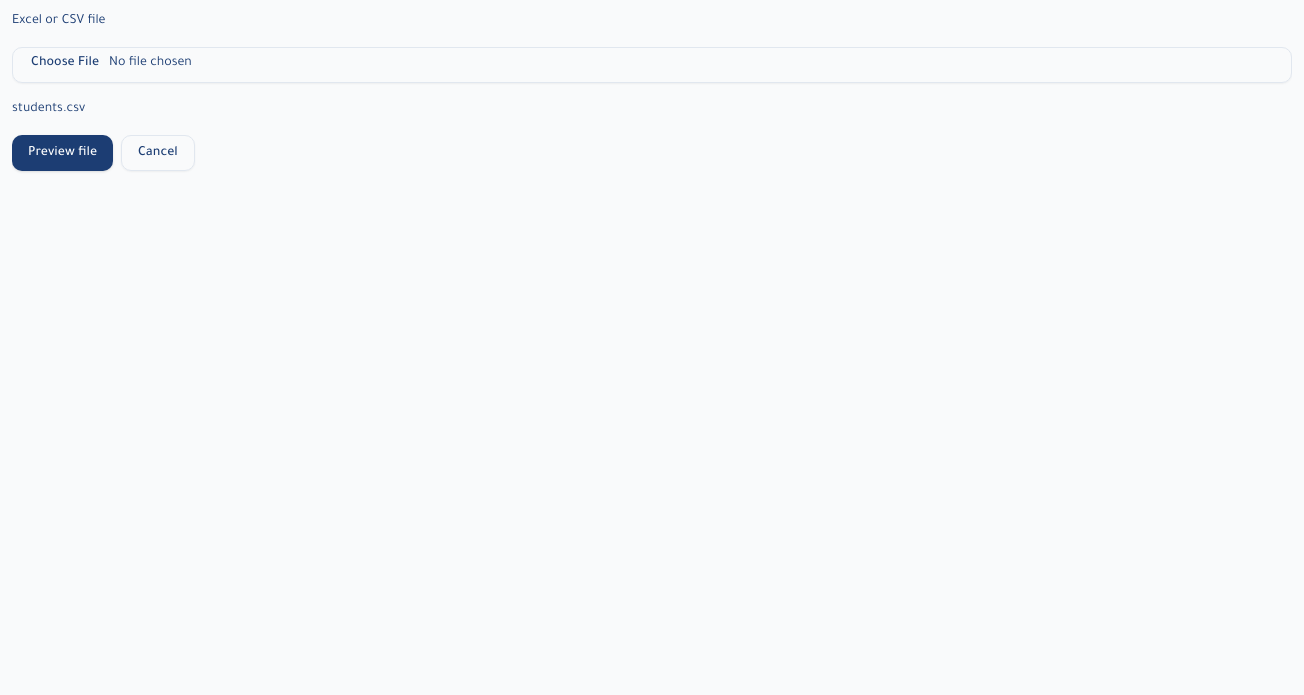
Test: mandatory external import review › stale confirmation requires a fresh preview and never reports success
This screenshot has width=1304, height=695.
Earlier steps of the test are not shown.
Click the button "Preview file" at coordinates (63, 153), box [12, 135, 113, 171]
(page scrolled)
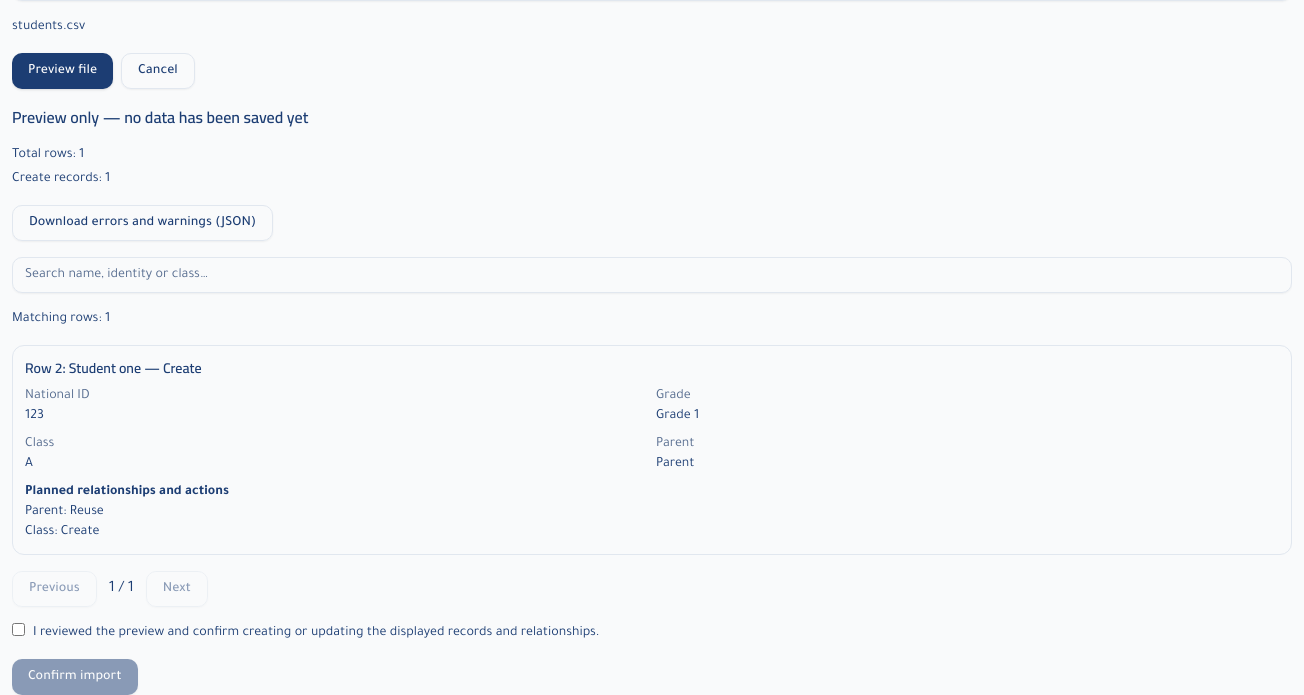
Expected: the heading "Preview only — no data has been saved yet" is shown, [12, 102, 308, 132]
Click the checkbox labelled "I reviewed the preview" at coordinates (18, 630), box [12, 623, 25, 636]
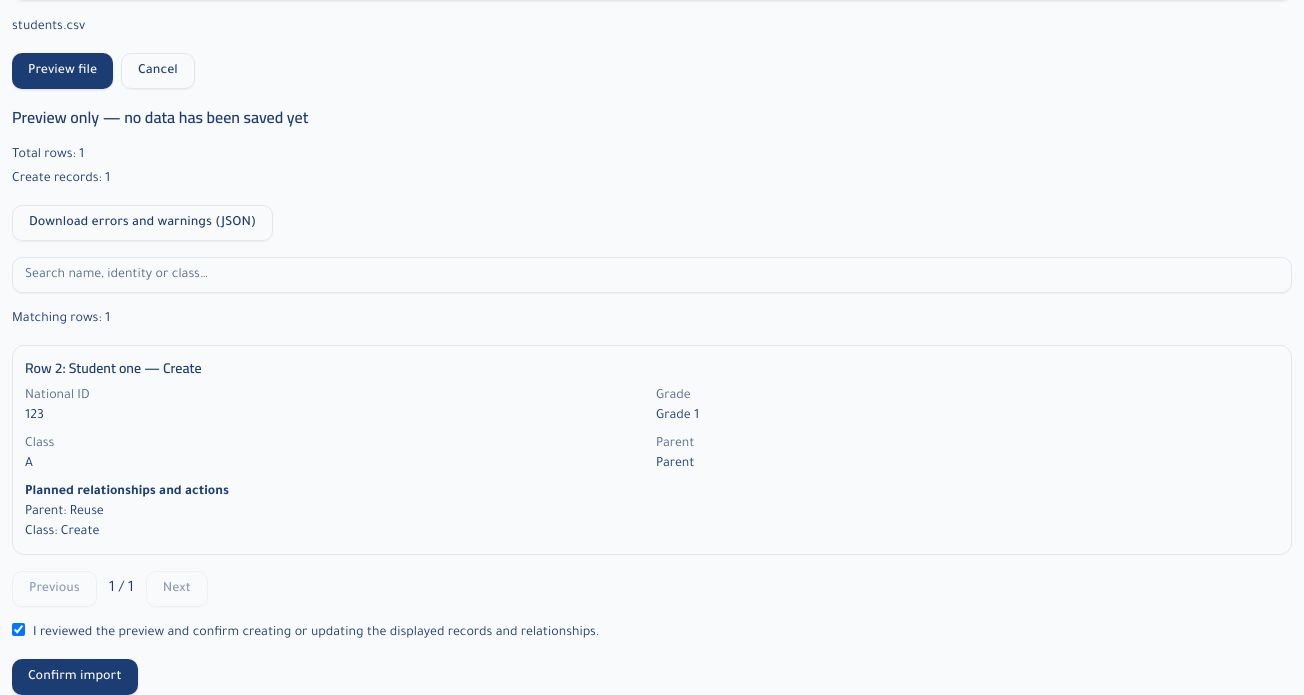
Click the button "Confirm import" at coordinates (75, 677), box [12, 659, 138, 694]
(page scrolled)
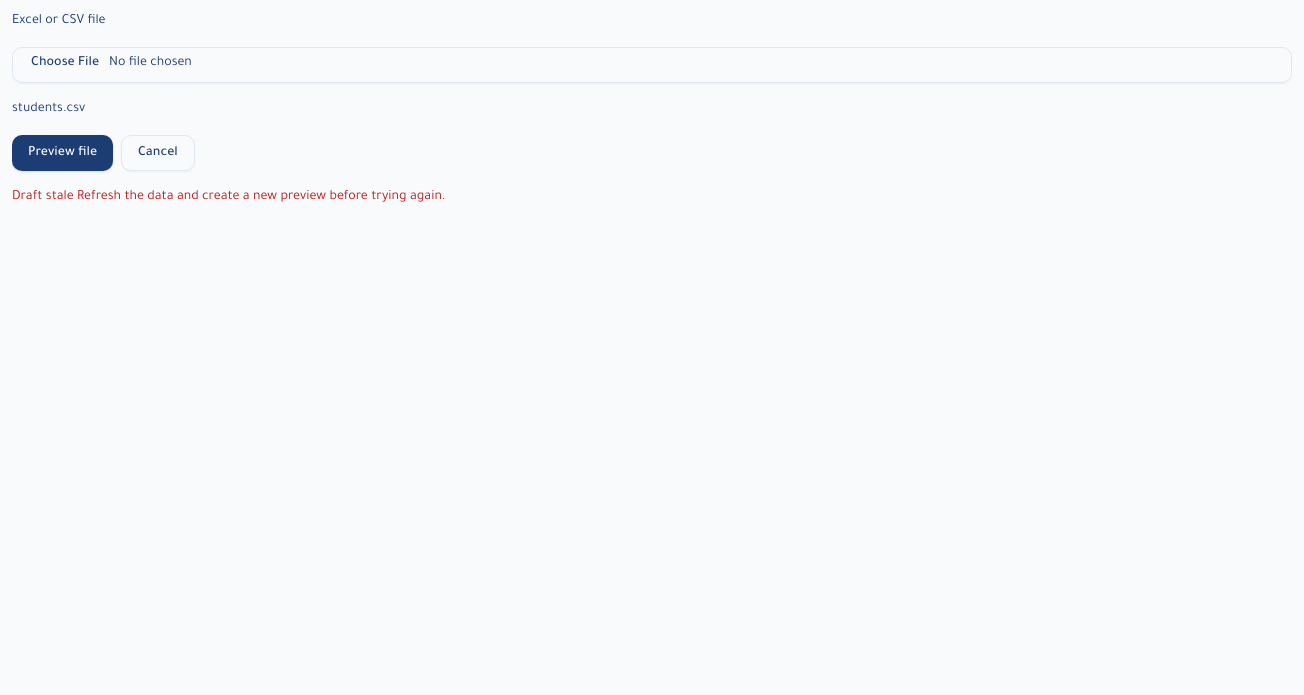
Expected: the message shows "create a new preview", [12, 190, 446, 204]
